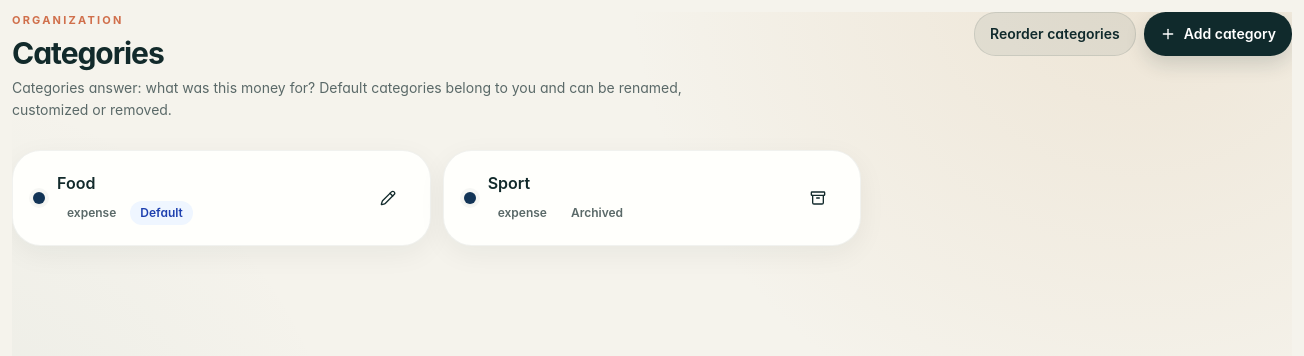
it: category management › keeps the original order and displays an error when saving fails
Expected: the button named "Edit Food" is shown, [366,176,410,220]
What coordinates should you click on to do the following:
click the button "Reorder categories"
I would click on:
 (1055, 34)
Its box is [974,12,1136,56].
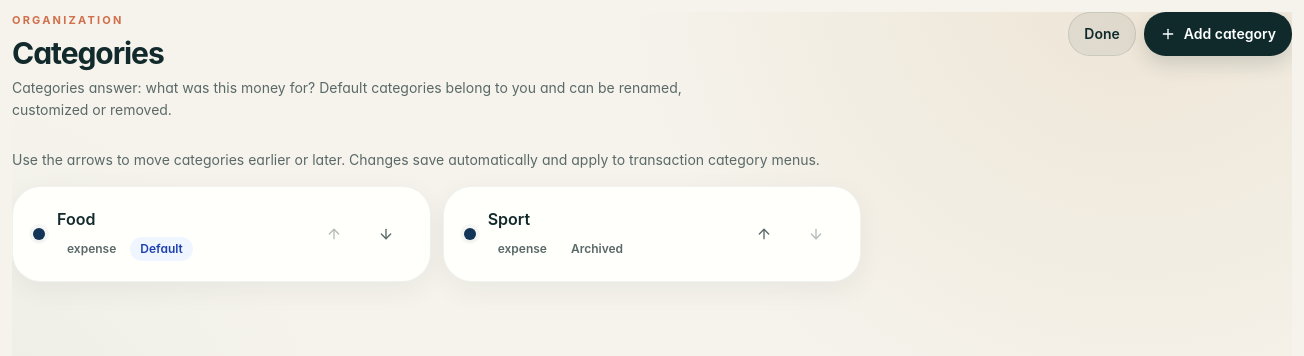
What coordinates should you click on to do the following:
click the button named "Move Food later"
I would click on:
 (386, 234)
Its box is [362,212,410,256].
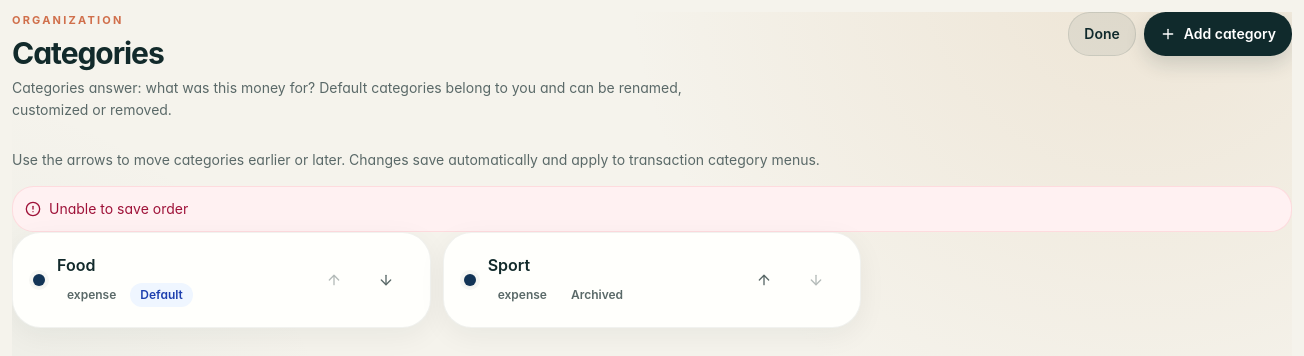
Expected: the button named "Move Food later" is enabled, [362,258,410,302]
Now the button named "Move Food earlier" is disabled, box [310,258,358,302]
Now the text "Unable to save order" is shown, box [49,199,188,219]
